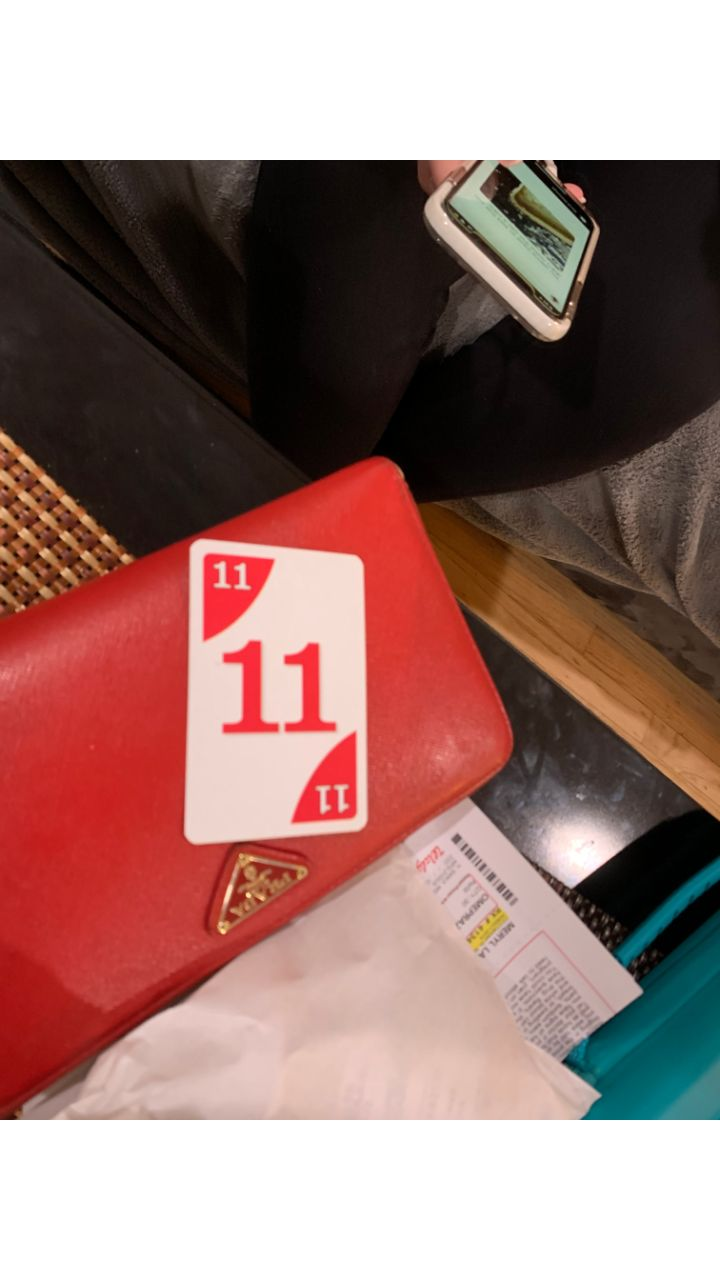eleven: (180, 535, 372, 839)
